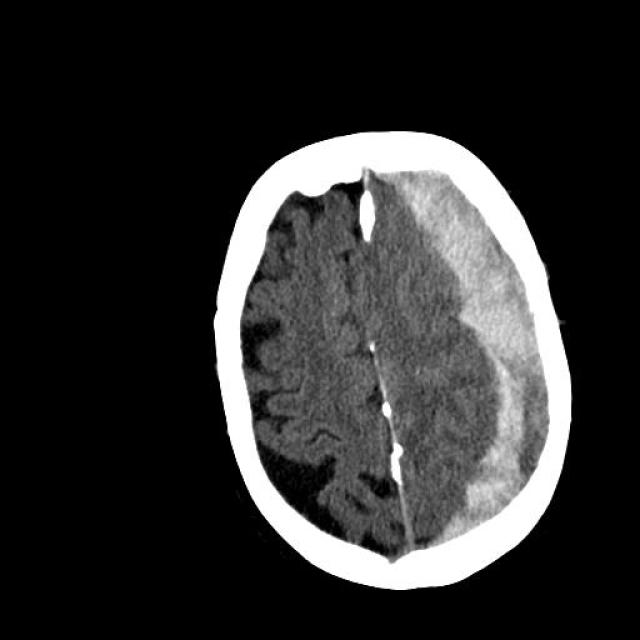Subdural: (375, 165, 597, 559)
